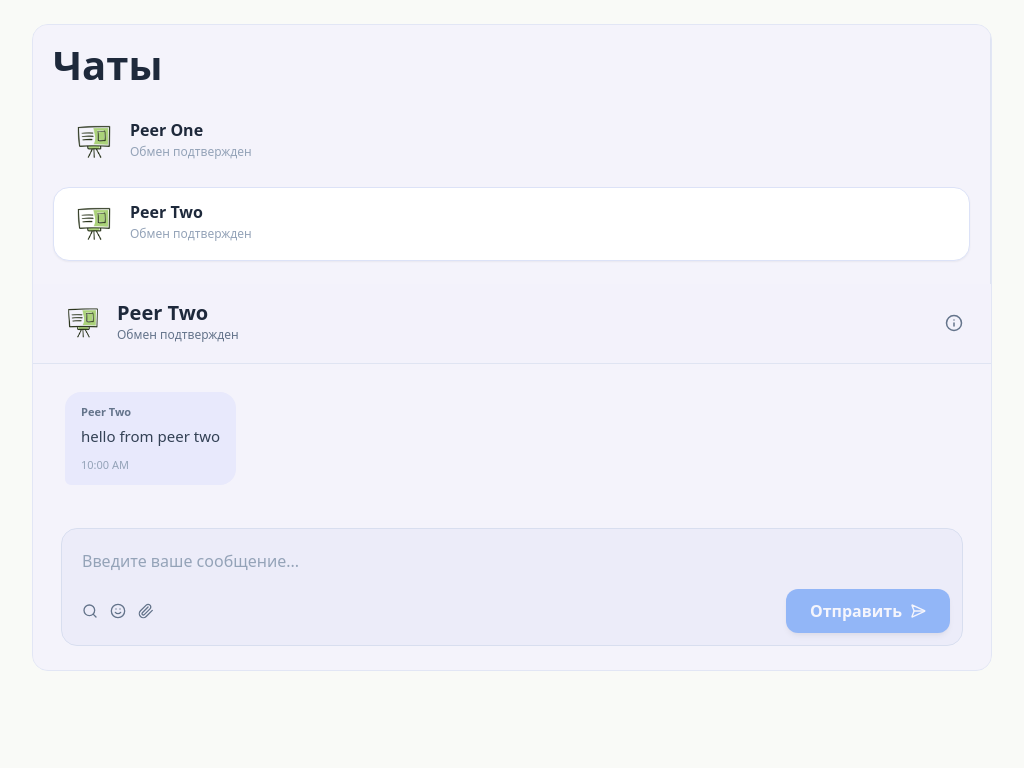
Test: ChatPage › switches between chats and loads conversation for selected peer
Expected: the text "hello from peer two" is shown, [81,424,220,449]
Step 1. Click the text "Peer One" → x=167, y=130, box [130,119,203,141]
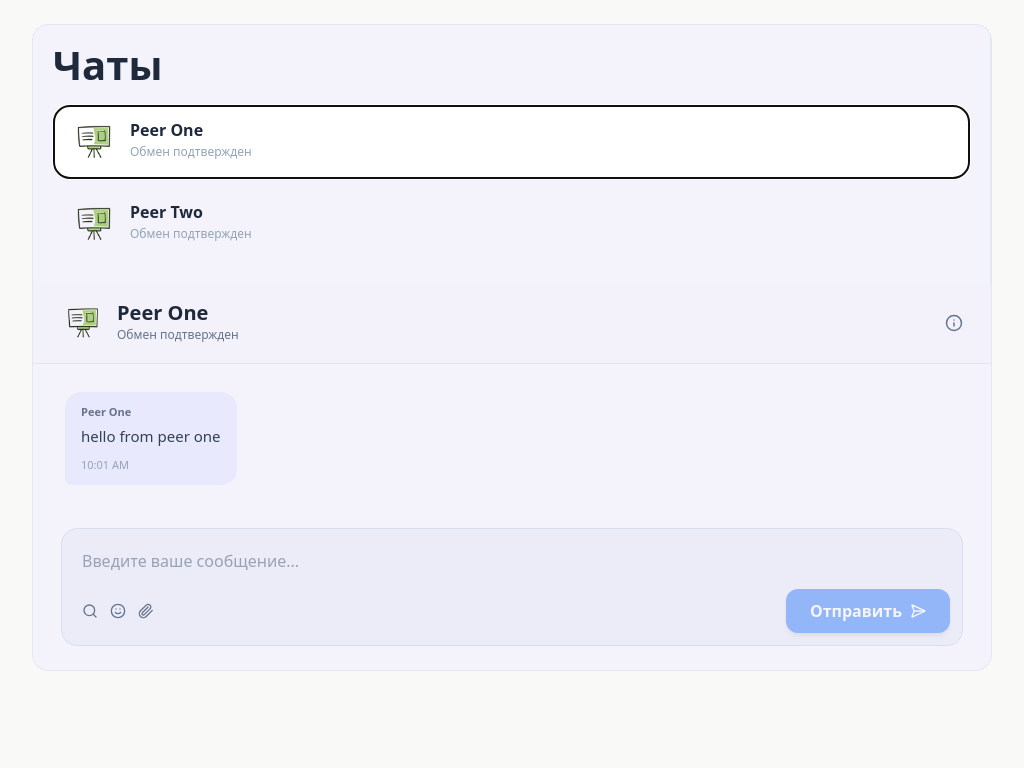
Expected: the text "hello from peer one" is shown, [81,424,220,449]
